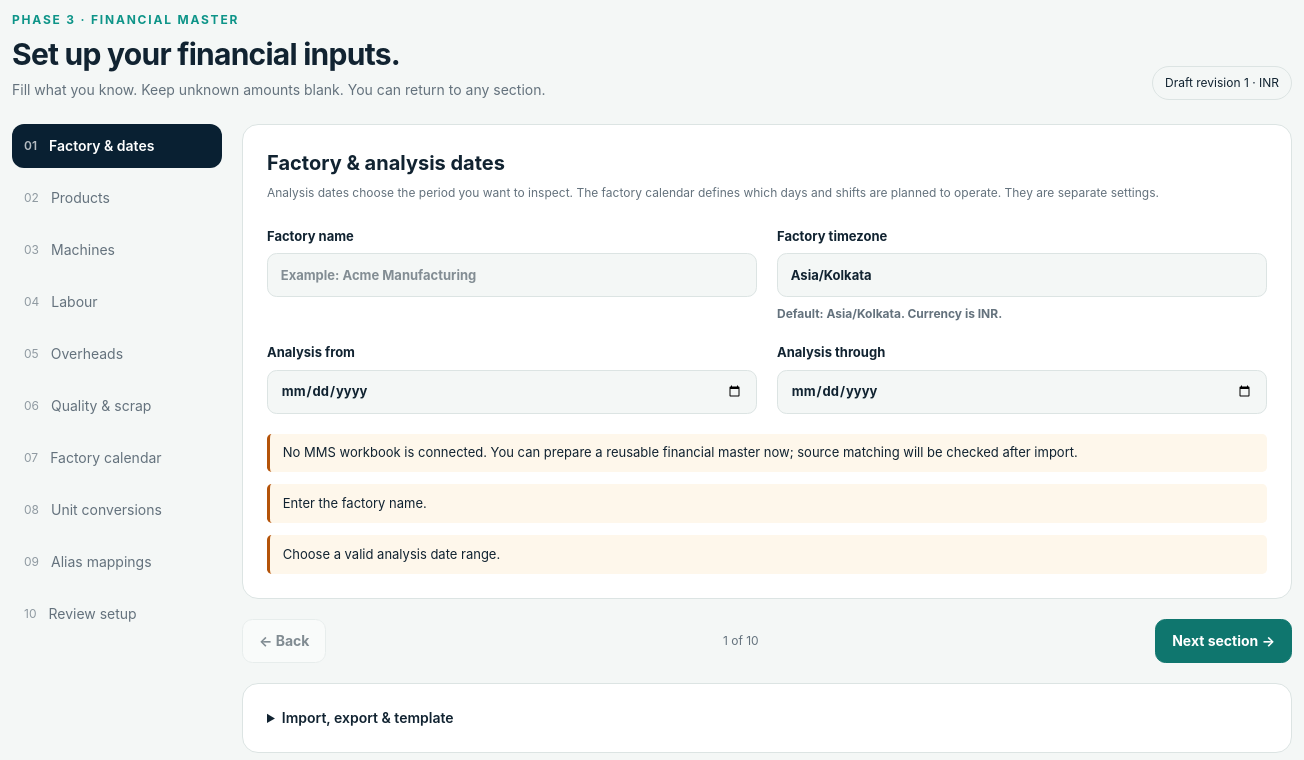
Test: guided financial setup › keeps incomplete drafts editable and review does not invent profit
Click the button "10 Review setup" at (117, 614), box [12,592,222,636]
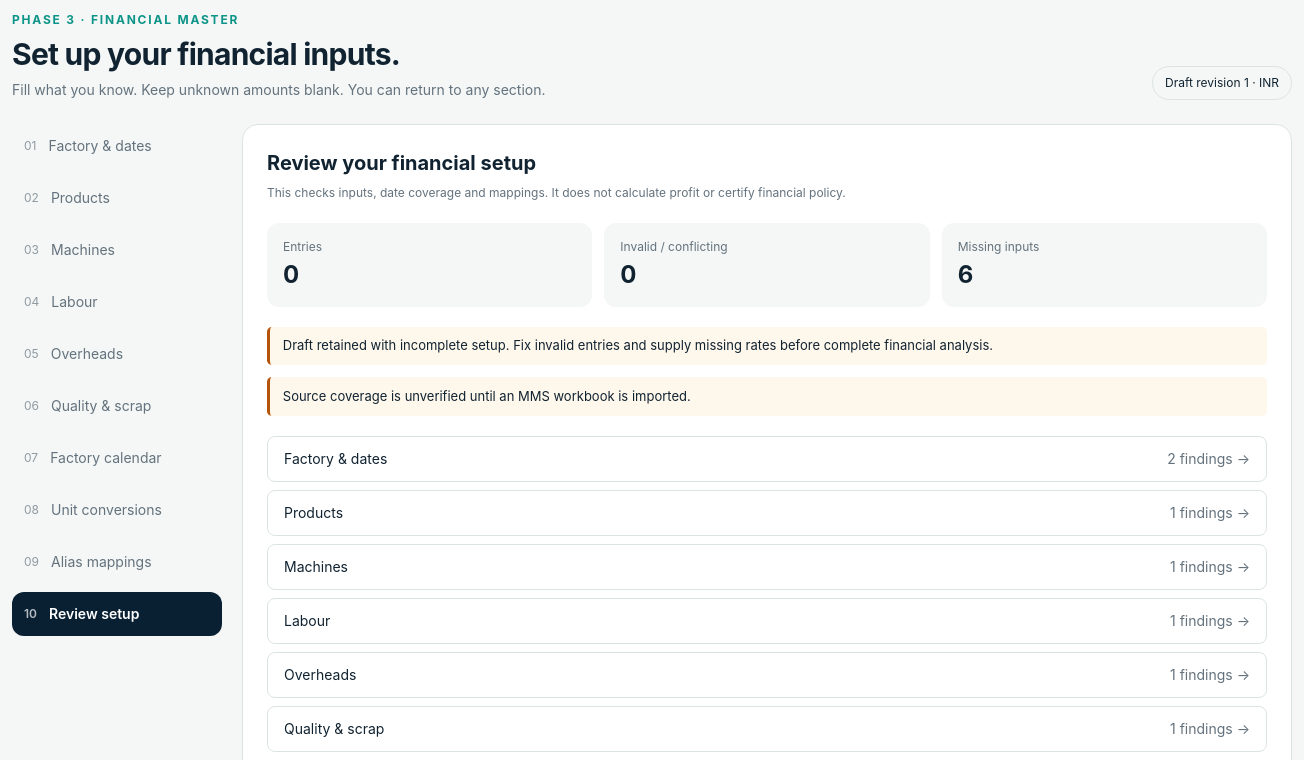
Expected: the text "Draft retained with incomplete setup" is shown, [283,337,993,353]
Expected: the text "does not calculate profit" is shown, [267,185,846,200]
